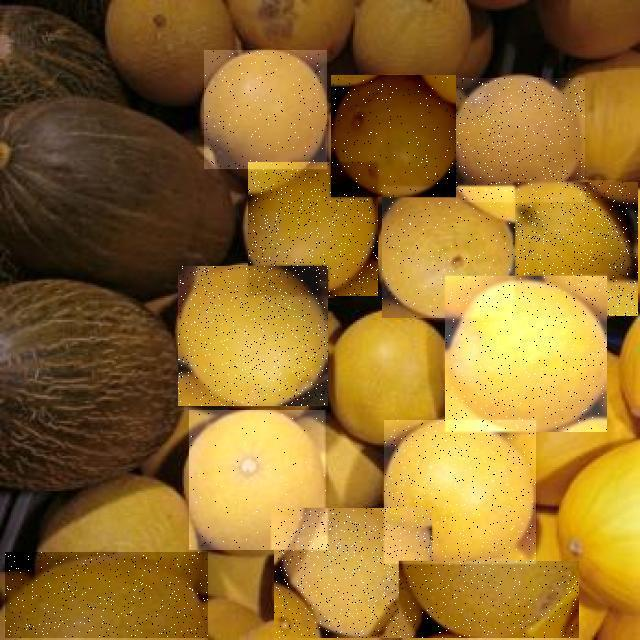Galia: (445, 276, 607, 432), (384, 420, 536, 564), (178, 267, 328, 407), (274, 508, 432, 638), (190, 410, 328, 550), (382, 186, 515, 318), (5, 552, 208, 638), (249, 162, 379, 296), (513, 182, 638, 316), (456, 78, 585, 202), (331, 75, 456, 197), (204, 50, 327, 169), (399, 561, 579, 638)
